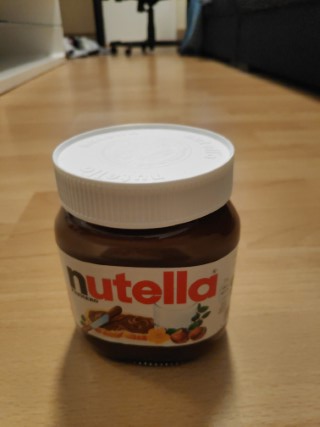nutella: (50, 120, 243, 368)
